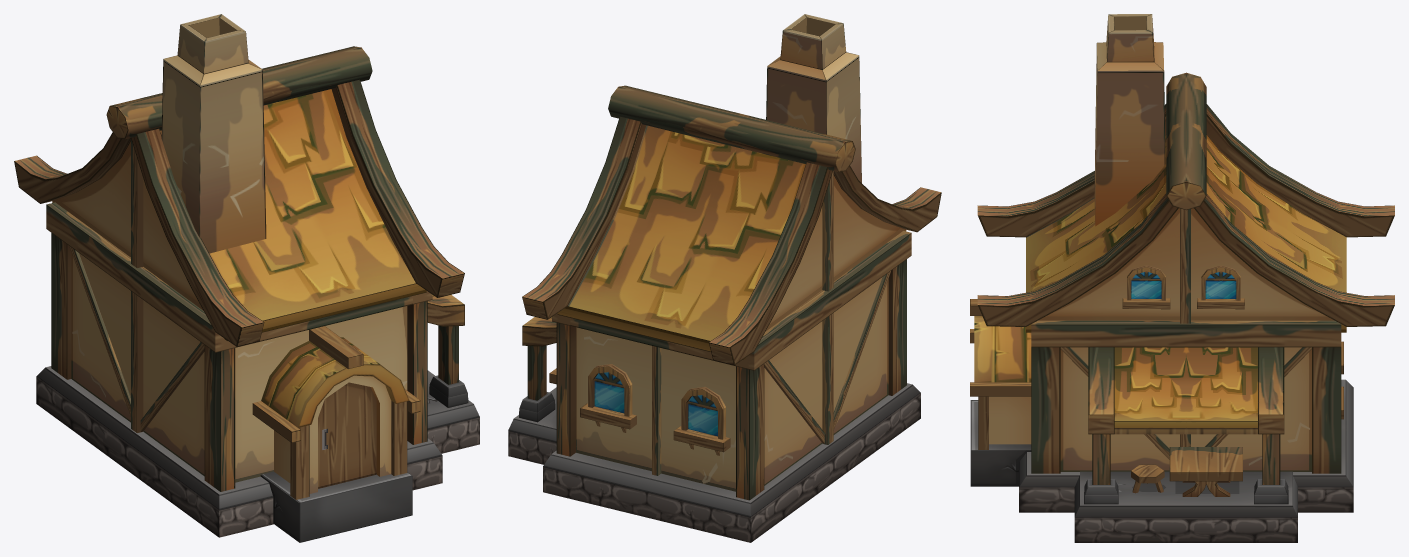
Rendered from House_Yellow.fbx.
3 renders of one model, left to right at view 1: azimuth 30°, elevation 25°; view 2: azimuth 150°, elevation 25°; view 3: azimuth 270°, elevation 25°, orthographic. The views are drawn at different scales.
Parts seen in each view (by area): view 1: House_Yellow, HY_Door; view 2: House_Yellow; view 3: House_Yellow.
Boxes of the visible parts, x1=… form: House_Yellow: x1=14, y1=14, x2=479, y2=542; HY_Door: x1=318, y1=382, x2=376, y2=488; House_Yellow: x1=508, y1=14, x2=941, y2=542; House_Yellow: x1=970, y1=14, x2=1394, y2=542.
Bounding box in the file's own units: 3.88 × 5.57 × 5.18.
